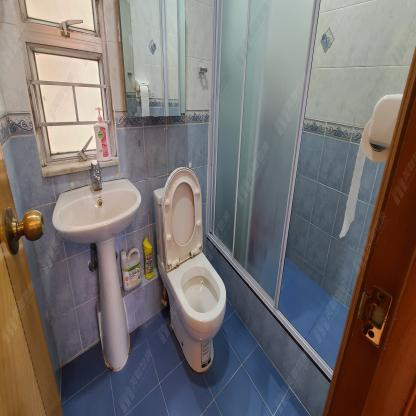Toilet: (154, 168, 226, 374)
Toilet Sink: (51, 178, 141, 244)
